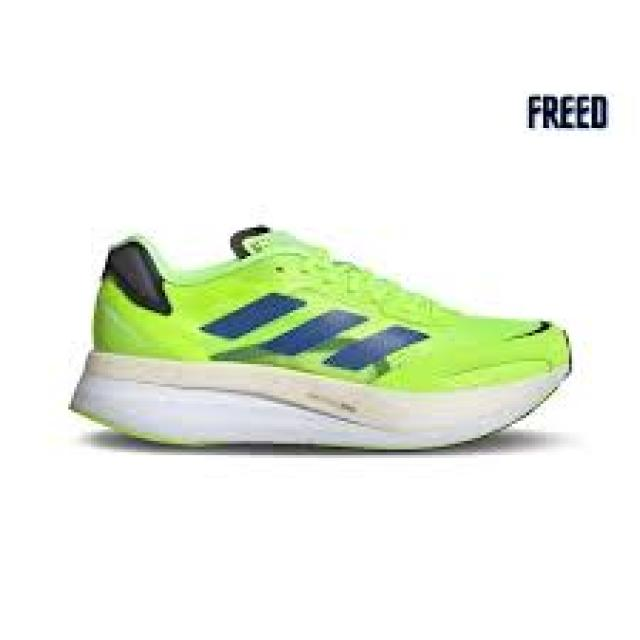shoe: (56, 222, 582, 450)
